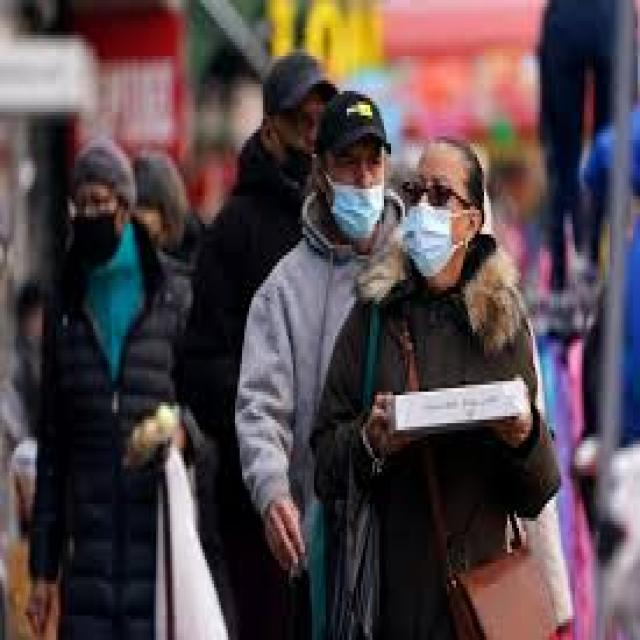Jacket: (310, 252, 563, 640), (169, 160, 362, 639), (239, 208, 437, 597), (25, 239, 211, 635)
